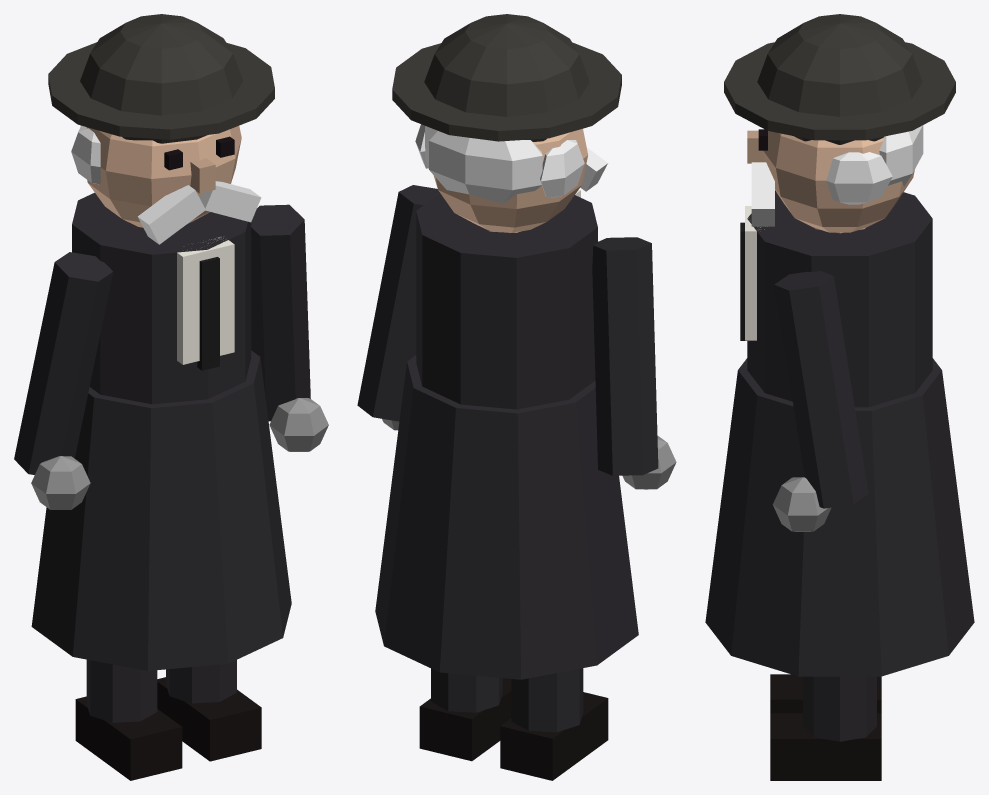
File: postac_clemenceau.glb
The picture shows the model from 3 angles, left to right: view 1: azimuth 30°, elevation 25°; view 2: azimuth 150°, elevation 25°; view 3: azimuth 270°, elevation 25°; orthographic projection.
Visible parts, largest first — view 1: cialo, reka_l, reka_p, noga_l, noga_p; view 2: cialo, reka_l, noga_l, reka_p, noga_p; view 3: cialo, reka_p, noga_p, noga_l.
Part boxes in pixels (left/top/right/bottom): cialo: left=31, top=14, right=291, bottom=670; reka_l: left=14, top=252, right=112, bottom=509; reka_p: left=251, top=204, right=328, bottom=451; noga_l: left=75, top=659, right=182, bottom=780; noga_p: left=157, top=660, right=261, bottom=761; cialo: left=375, top=14, right=638, bottom=679; reka_l: left=592, top=237, right=676, bottom=489; noga_l: left=500, top=668, right=608, bottom=780; reka_p: left=357, top=185, right=439, bottom=430; noga_p: left=419, top=668, right=511, bottom=761; cialo: left=705, top=14, right=974, bottom=676; reka_p: left=772, top=271, right=868, bottom=531; noga_p: left=770, top=676, right=881, bottom=780; noga_l: left=770, top=674, right=881, bottom=713.
Size of the model in its own units: 0.7126 by 1.72 by 0.58.
